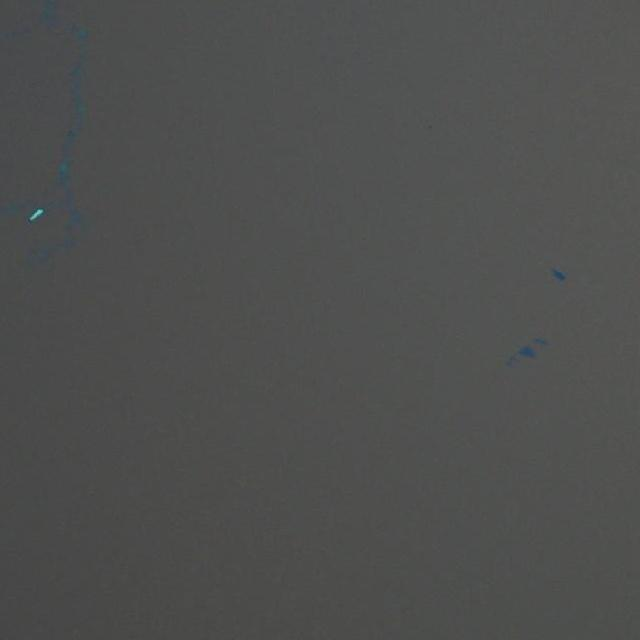monolayer-eWW4: (515, 344, 537, 359)
